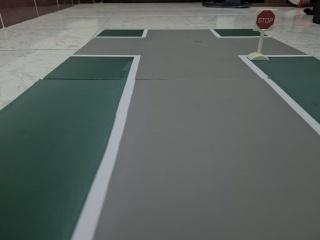stop: (251, 8, 281, 31)
